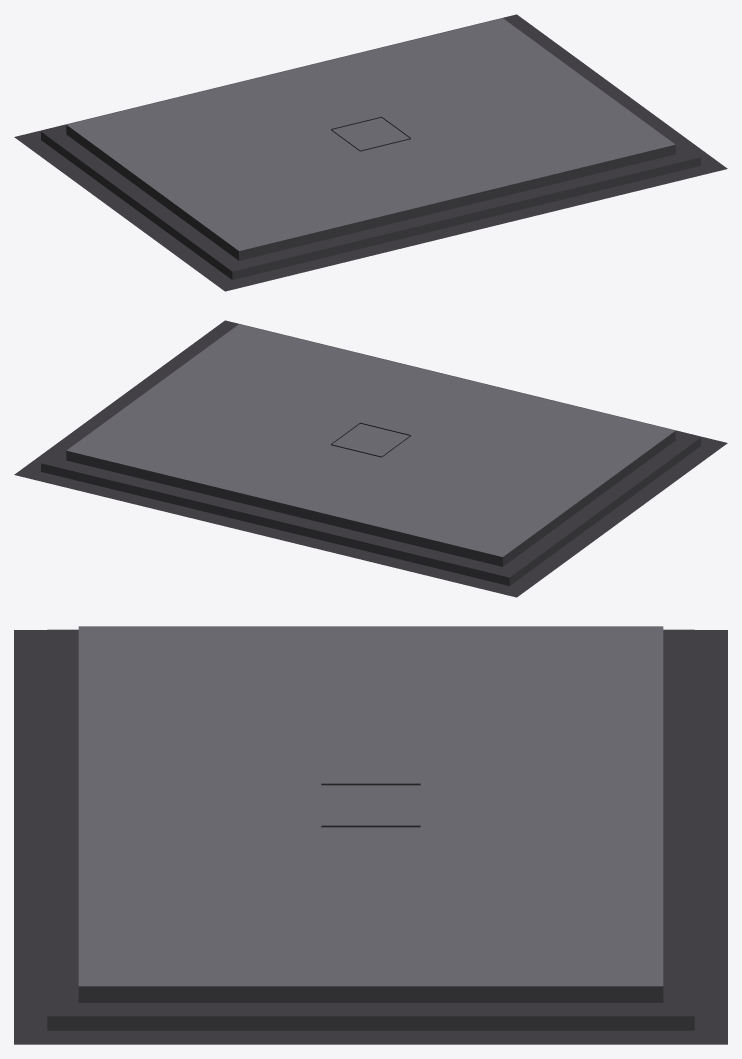
Rendered from samllroof.fbx.
The picture shows the model from 3 angles, top to bottom: view 1: azimuth 30°, elevation 25°; view 2: azimuth 150°, elevation 25°; view 3: azimuth 270°, elevation 25°; orthographic projection. The views are drawn at different scales.
Visible parts, largest first — view 1: Box002; view 2: Box002; view 3: Box002.
Boxes of the visible parts, box(x1,y1,x2,y2) form: Box002: box(14, 14, 727, 291); Box002: box(14, 320, 727, 597); Box002: box(14, 626, 727, 1044).
Size of the model in its own units: 1375 by 221 by 1000.
